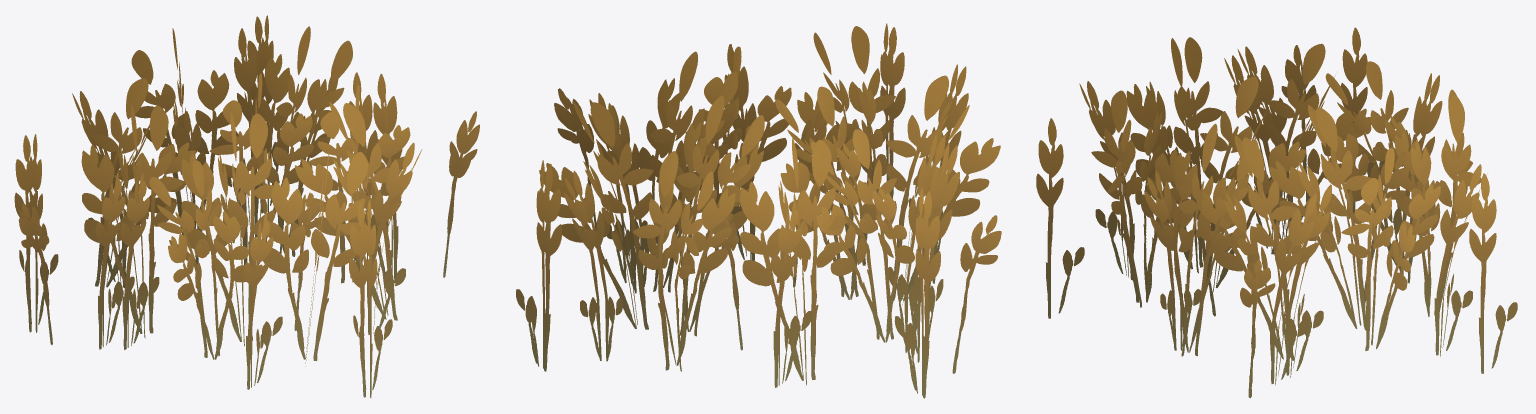
File: F_SandWeed_D.FBX
The picture shows the model from 3 angles, left to right: view 1: azimuth 30°, elevation 25°; view 2: azimuth 150°, elevation 25°; view 3: azimuth 270°, elevation 25°; orthographic projection. The views are drawn at different scales.
Parts seen in each view (by area): view 1: F_SandWeed_D; view 2: F_SandWeed_D; view 3: F_SandWeed_D.
Boxes of the visible parts, left/top/right/bottom form: F_SandWeed_D: left=14, top=15, right=479, bottom=397; F_SandWeed_D: left=516, top=23, right=1001, bottom=398; F_SandWeed_D: left=1036, top=27, right=1517, bottom=398.
Bounding box in the file's own units: 123 × 59.6 × 113.
1 material, 1 textured.
